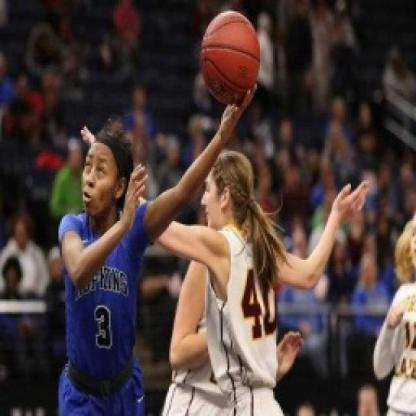basketball: (196, 5, 264, 106)
